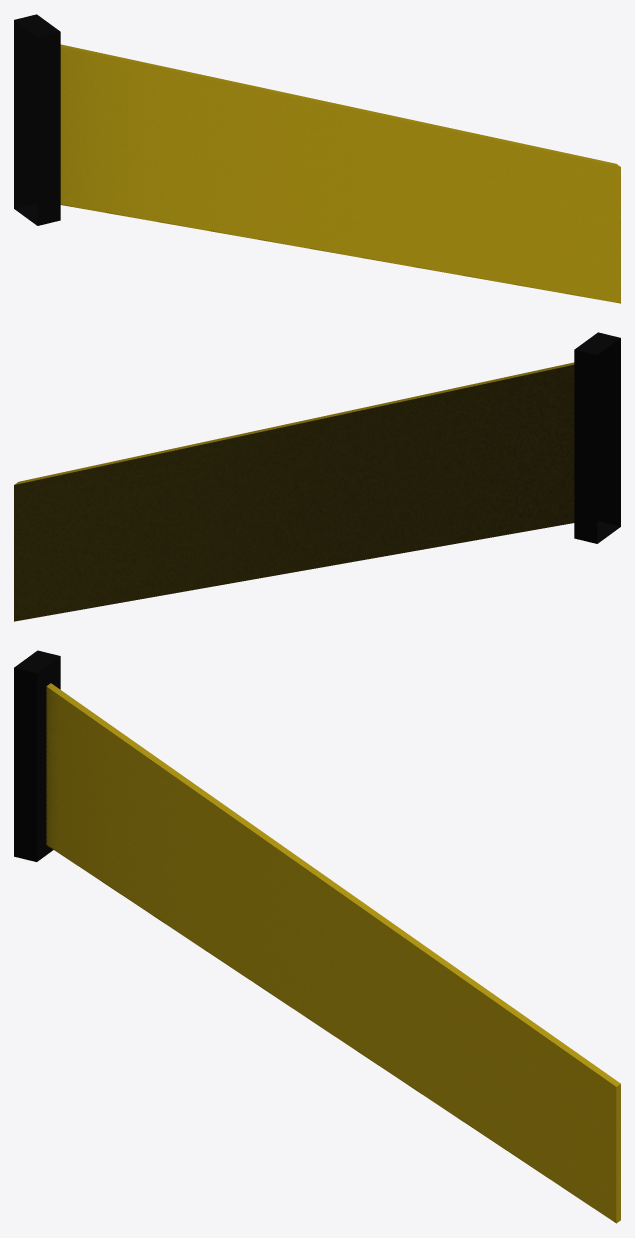
The model's file is Nautilus-Glider-RightFin.dae.
3 views of the same model, one above another, from view 1: azimuth 30°, elevation 25°; view 2: azimuth 150°, elevation 25°; view 3: azimuth 330°, elevation 25° (orthographic).
Parts seen in each view (by area): view 1: node; view 2: node; view 3: node.
Boxes of the visible parts, x1,y1,x2,y2 form: node: (14, 14, 620, 303); node: (14, 332, 620, 621); node: (14, 650, 620, 1223).
Bounding box in the file's own units: 0.9768 × 0.6582 × 0.0674.
Materials: 1 (1 with a texture image).
